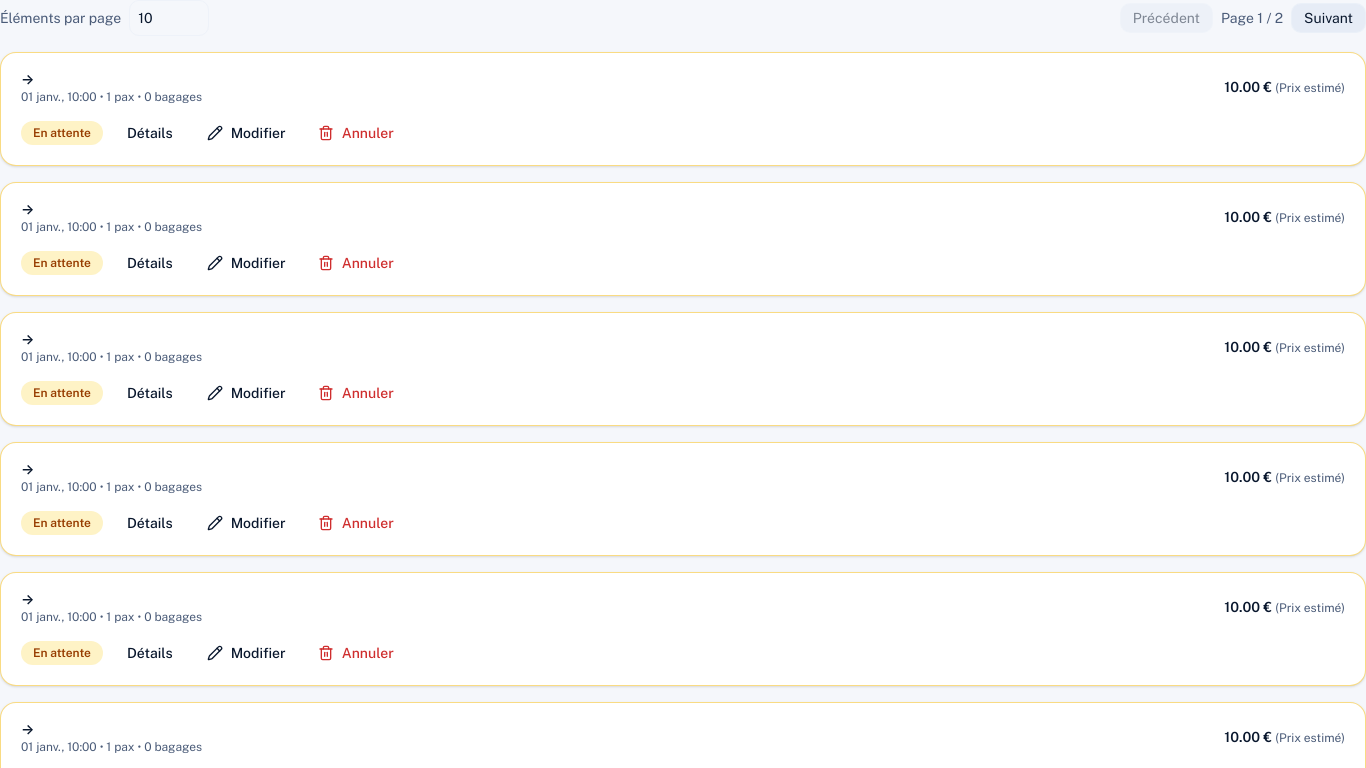
Scenario: BookingsManager › pagine les réservations et change la page
Check: the text "Page 1 / 2" is shown, box [1221,8,1283,28]
Click the button "Suivant" at (1329, 18), box [1291,3,1365,33]
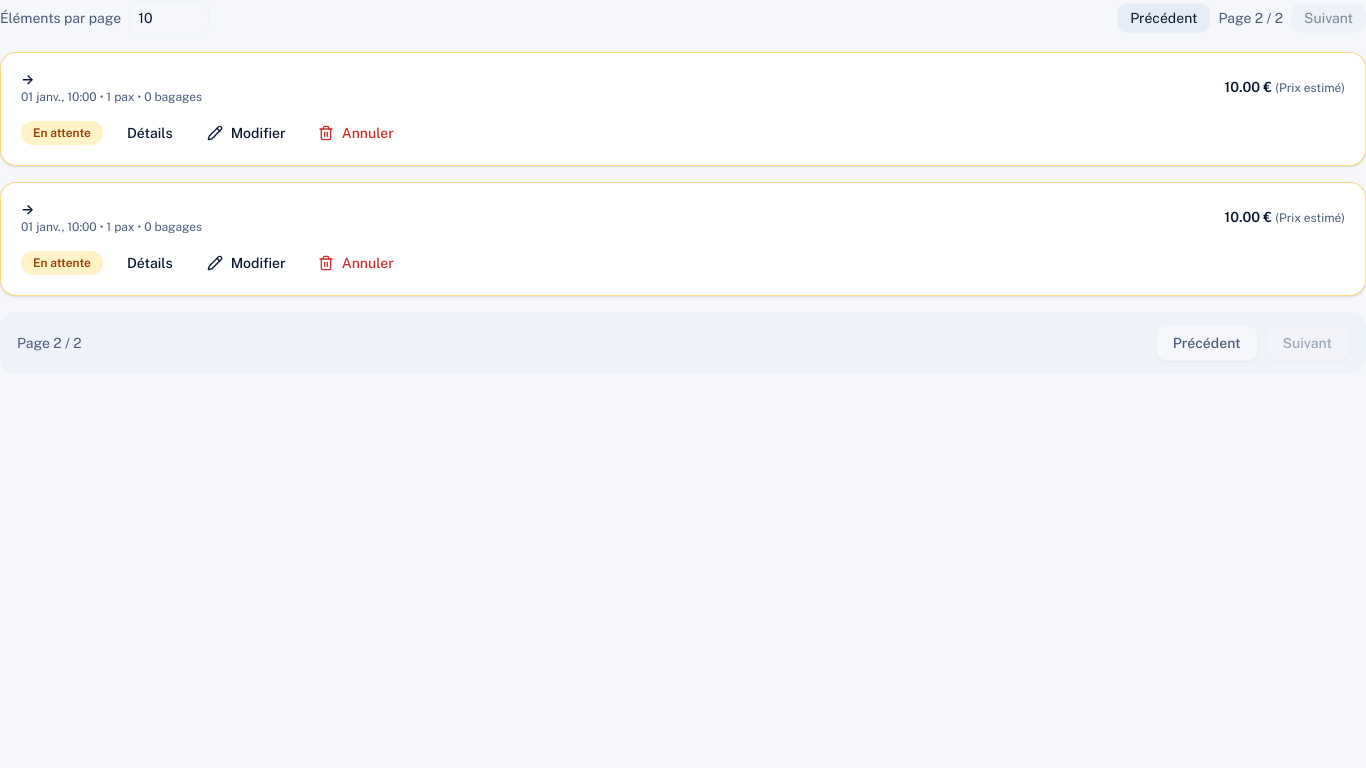
Check: the text "Page 2 / 2" in the row of "Éléments par page" is shown, box [1218,8,1283,28]
Replace the text in the number field showing "10" with "5" at (169, 18), box [129,0,209,36]
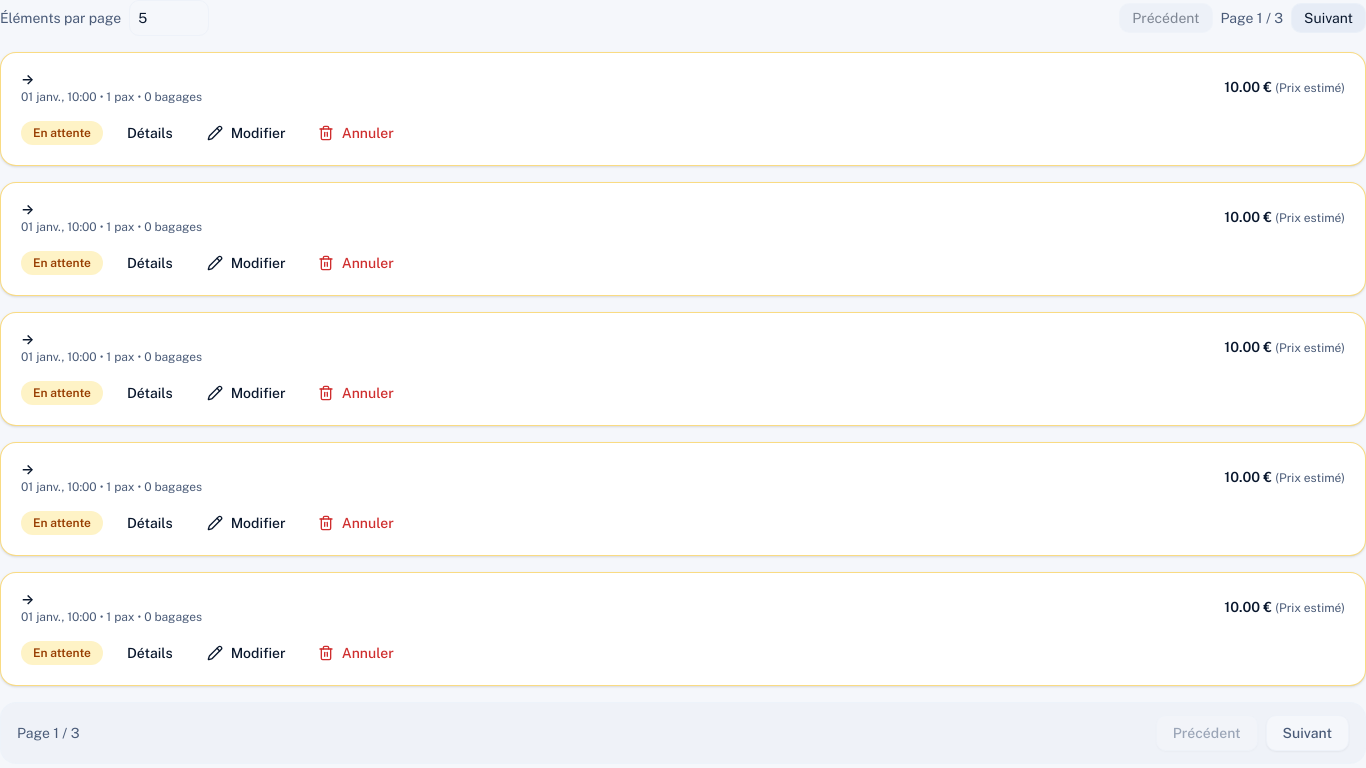
Check: the 1st text "(Prix estimé)" is shown, box [1275,81,1345,95]
Check: the text "Page 1 / 3" in the row of "Éléments par page" is shown, box [1221,8,1283,28]
